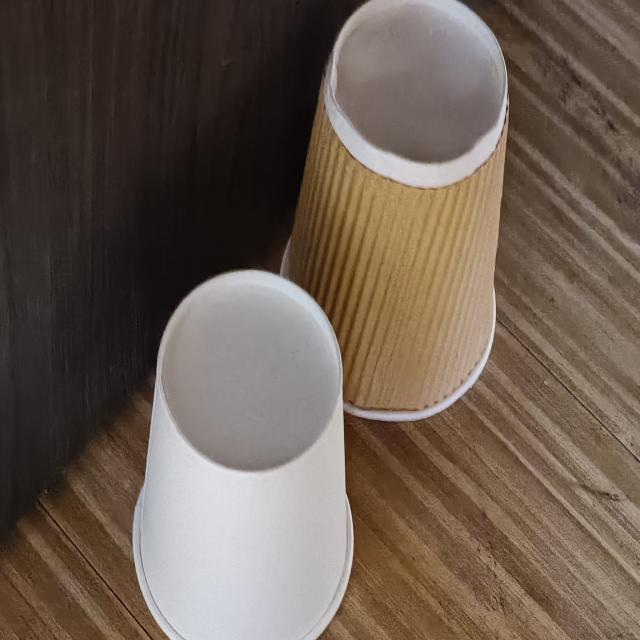Browncup: (288, 0, 509, 421)
Whitecup: (133, 270, 354, 640)
